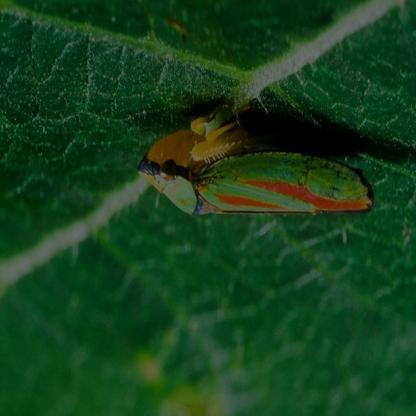green-leafhopper: (138, 130, 374, 220)
